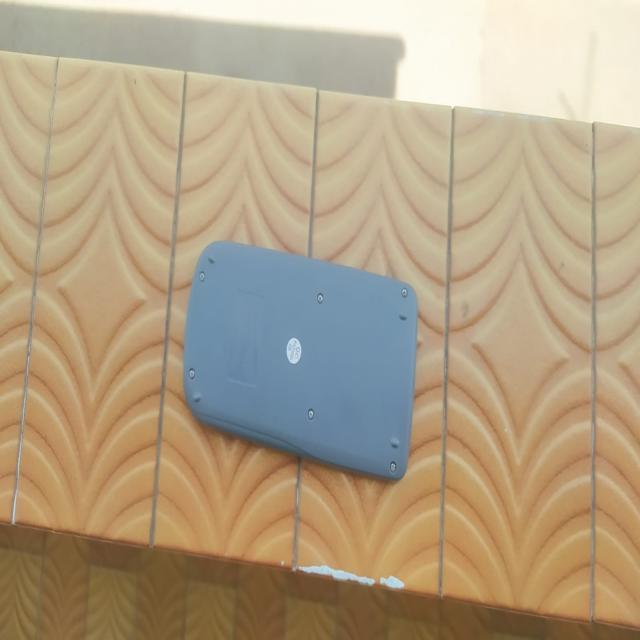Calculator: (188, 232, 416, 487)
